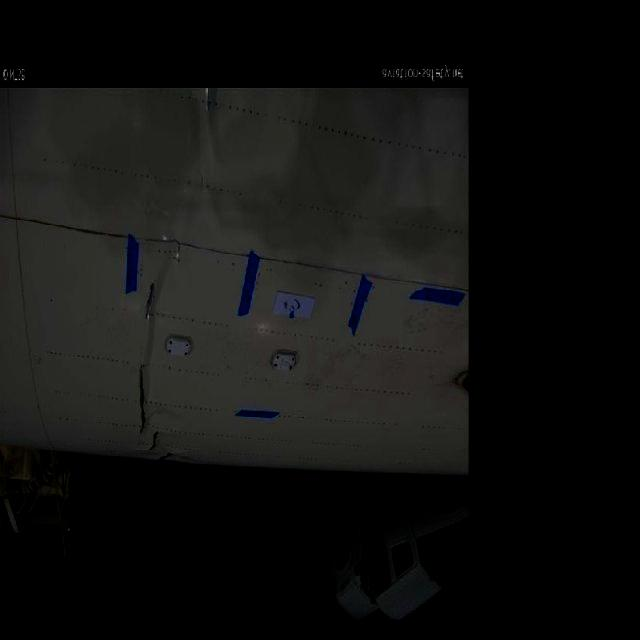crack: (135, 358, 147, 436), (142, 277, 161, 324), (144, 431, 163, 452)
